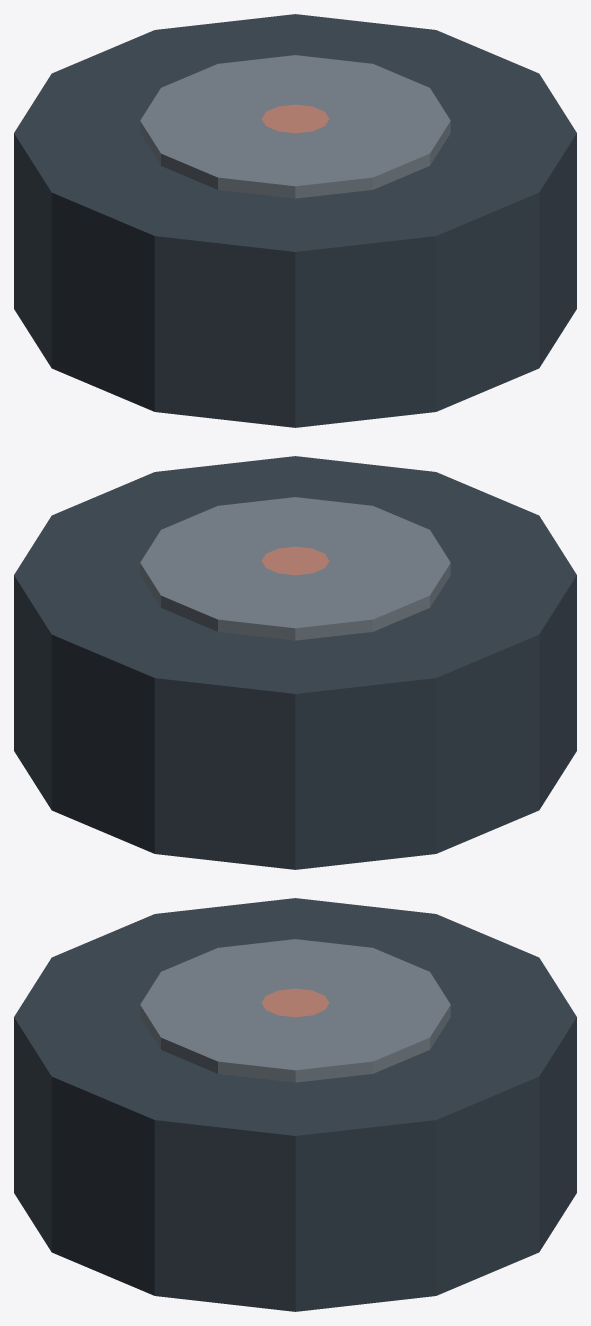
The model's file is tecnologia_tracker.glb.
The picture shows the model from 3 angles, top to bottom: view 1: azimuth 30°, elevation 25°; view 2: azimuth 150°, elevation 25°; view 3: azimuth 270°, elevation 25°; orthographic projection.
Bounding box in the file's own units: 0.58 × 0.216 × 0.58.
